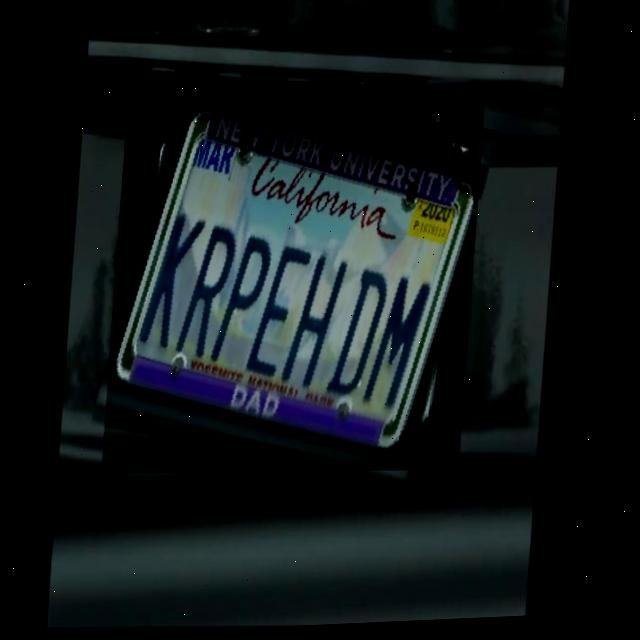LicensePlate: (105, 75, 487, 486)
